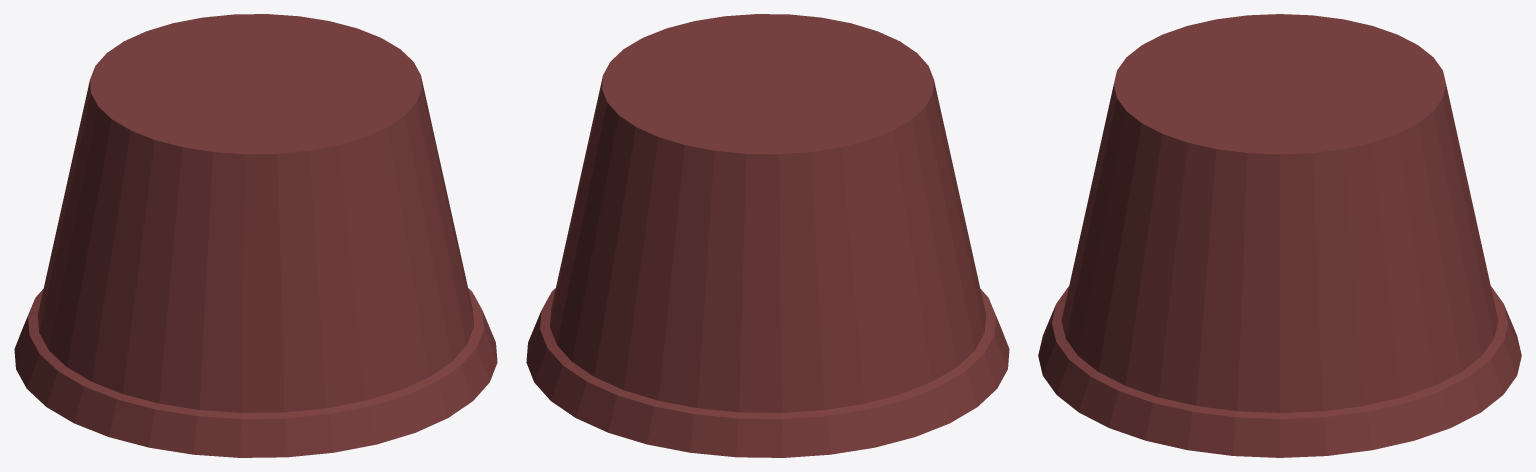
Rendered from plinth_02.fbx.
3 views of the same model, side by side, from view 1: azimuth 30°, elevation 25°; view 2: azimuth 150°, elevation 25°; view 3: azimuth 270°, elevation 25° (orthographic).
Parts seen in each view (by area): view 1: taso 2; view 2: taso 2; view 3: taso 2.
Boxes of the visible parts, x1,y1,x2,y2 form: taso 2: [14, 14, 497, 457]; taso 2: [526, 14, 1009, 457]; taso 2: [1038, 14, 1521, 457].
Size of the model in its own units: 135 by 83.81 by 135.
